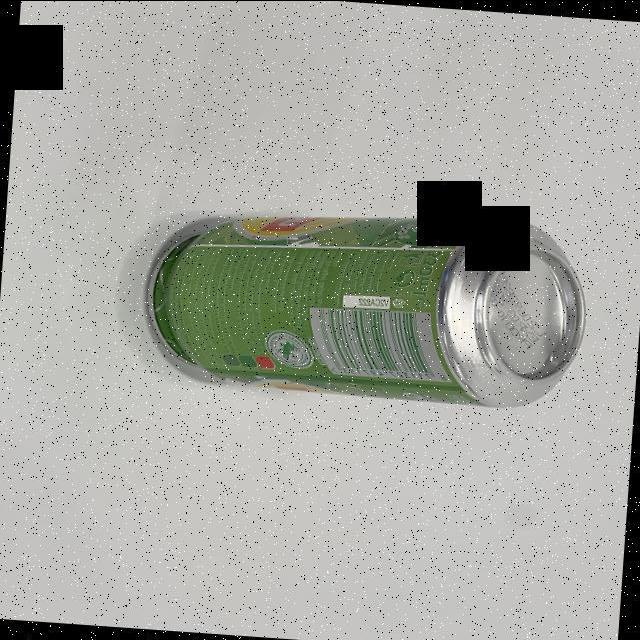can: (148, 215, 586, 408)
